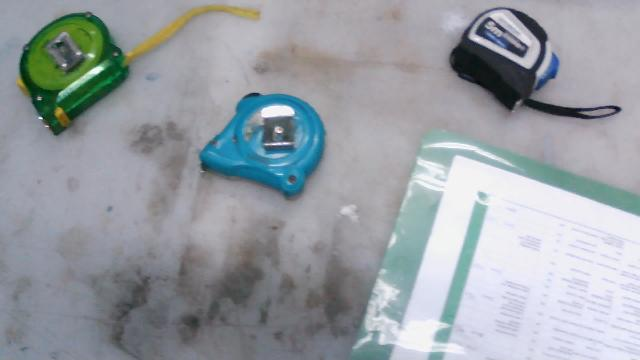meteran: (189, 71, 356, 247)
